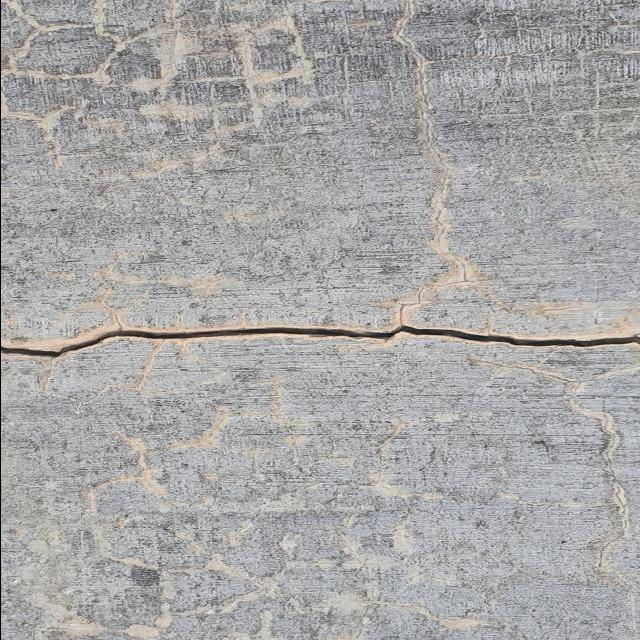SurfaceCrack: (0, 268, 639, 408)
